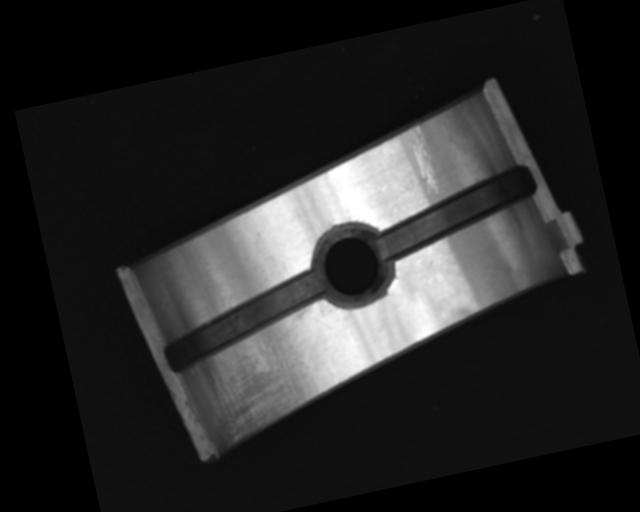gap: (153, 266, 336, 372), (364, 162, 545, 260)
hole: (303, 213, 402, 318)
nick: (408, 120, 439, 199)
scratch: (194, 305, 336, 449)
